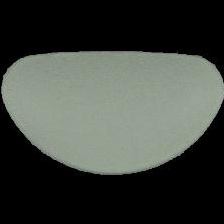0173-0562: (0, 0, 224, 224)
